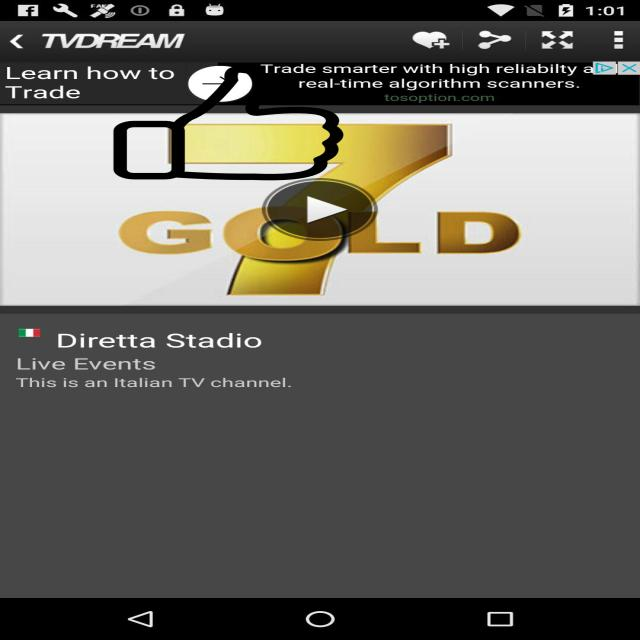privacy zuckering: (110, 66, 347, 180)
